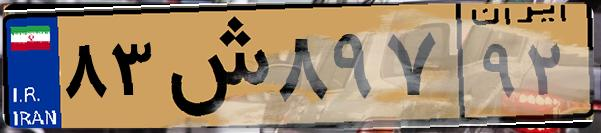2: (525, 38, 570, 115)
3: (110, 28, 158, 98)
7: (385, 28, 445, 110)
8: (270, 28, 330, 110), (57, 26, 110, 100)
9: (330, 28, 385, 110), (475, 38, 525, 113)
ش: (158, 12, 270, 120)
